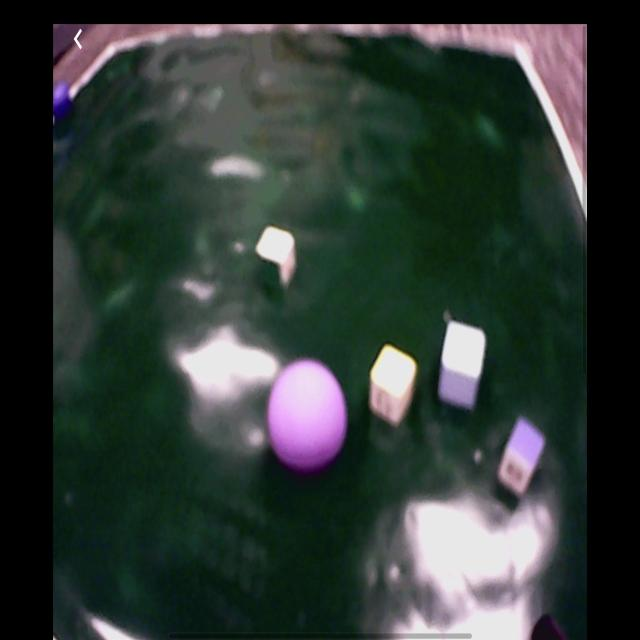ball: (268, 360, 348, 471), (55, 82, 70, 120)
